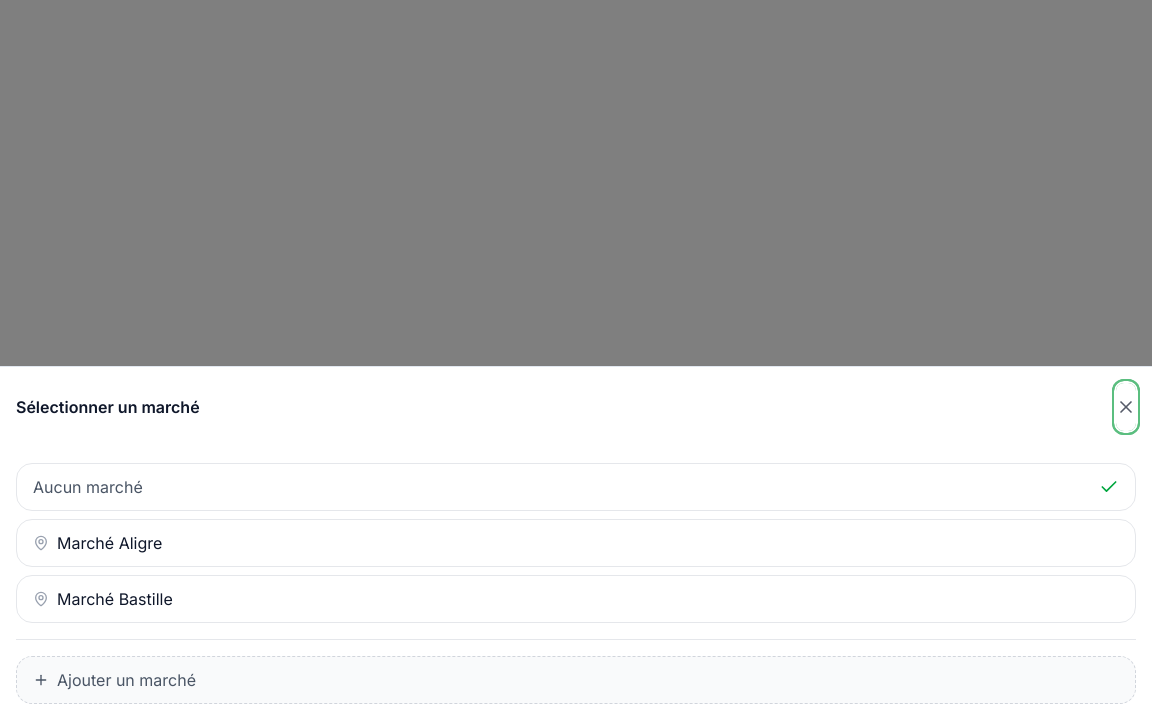
Scenario: MarketPicker › shows loading state during market creation
This screenshot has width=1152, height=720.
# First click "+ Ajouter un marché" to reveal form
Click the button "Ajouter un marché".
click(126, 680)  # box [16,656,1136,704]
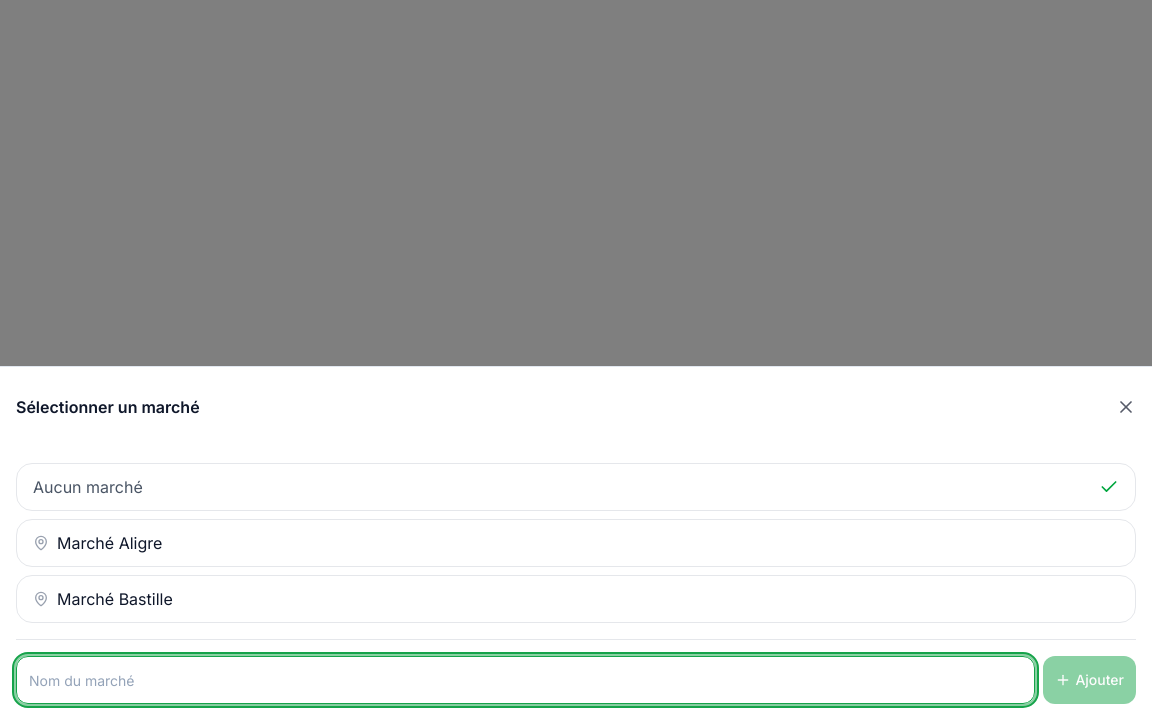
Type "Test" into the field with placeholder "Nom du marché".
click(526, 680); type("Test")  # box [16,656,1035,704]
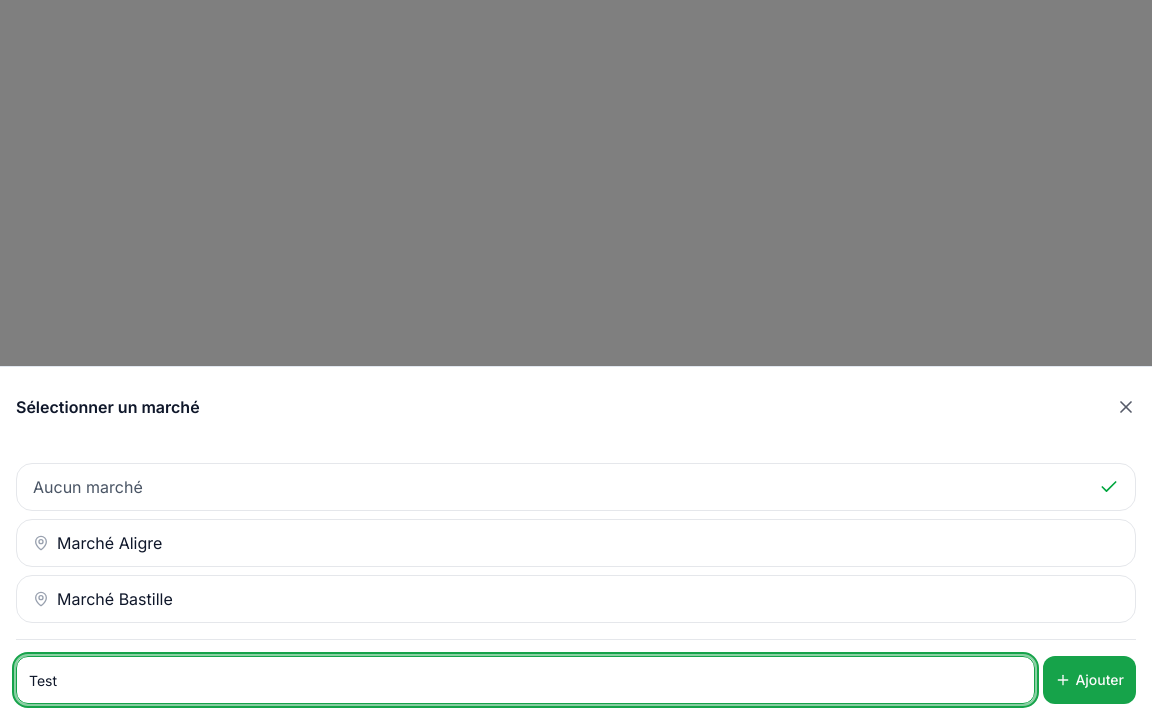
Click the button "Ajouter".
click(1090, 680)  # box [1043,656,1136,704]
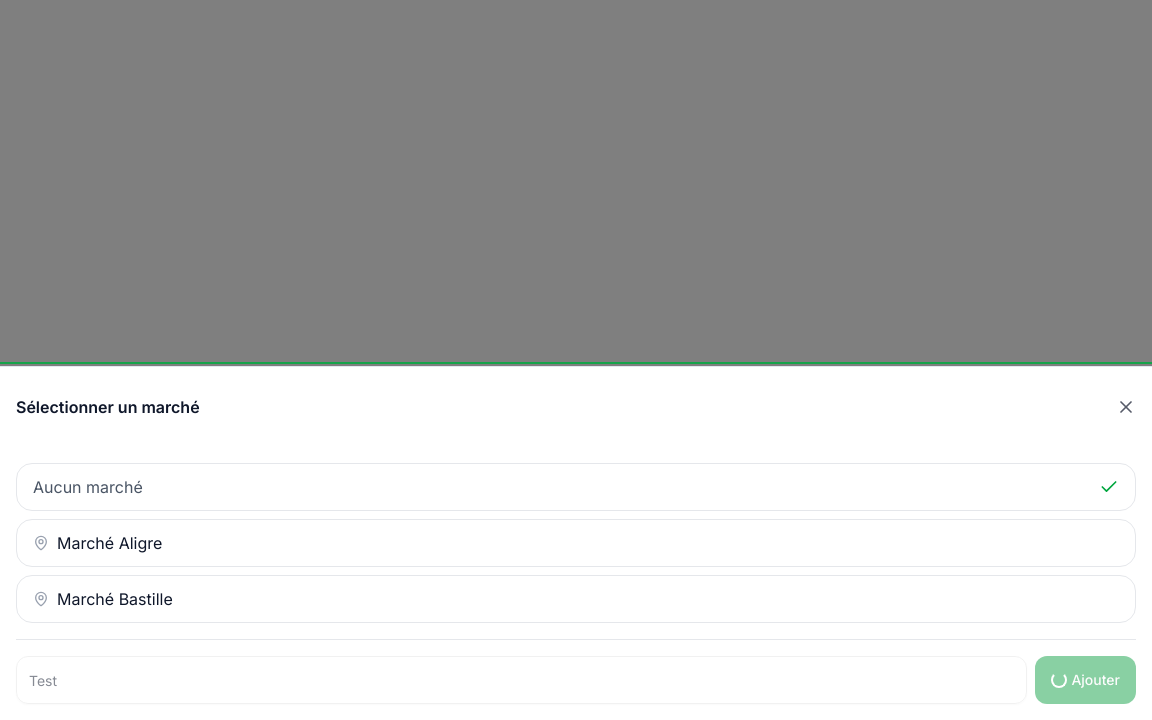
Now the field with placeholder "Nom du marché" is disabled, box [16,656,1027,704]
